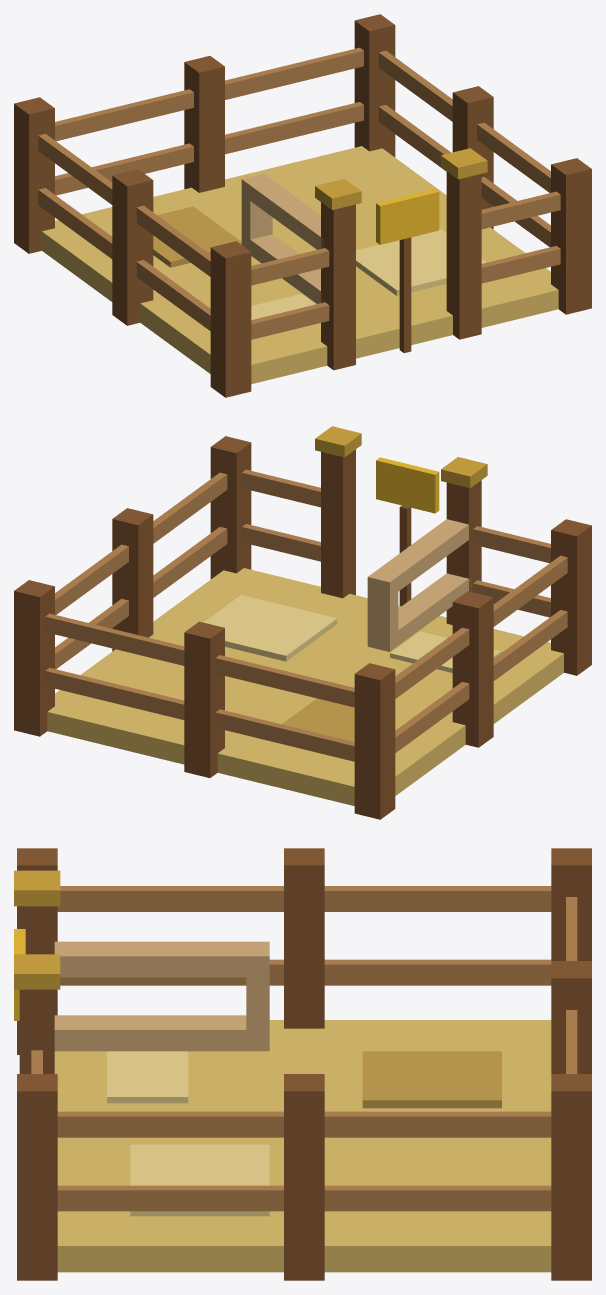
The model's file is pen.glb.
3 renders of one model, top to bottom at view 1: azimuth 30°, elevation 25°; view 2: azimuth 150°, elevation 25°; view 3: azimuth 270°, elevation 25°, orthographic. The views are drawn at different scales.
Parts seen in each view (by area): view 1: pen; view 2: pen; view 3: pen.
Part boxes in pixels (<box>): pen: <box>14,14,591,397</box>; pen: <box>14,426,591,819</box>; pen: <box>14,848,591,1280</box>.
Size of the model in its own units: 0.99 by 0.45 by 0.995.
Materials: 1 (1 with a texture image).
